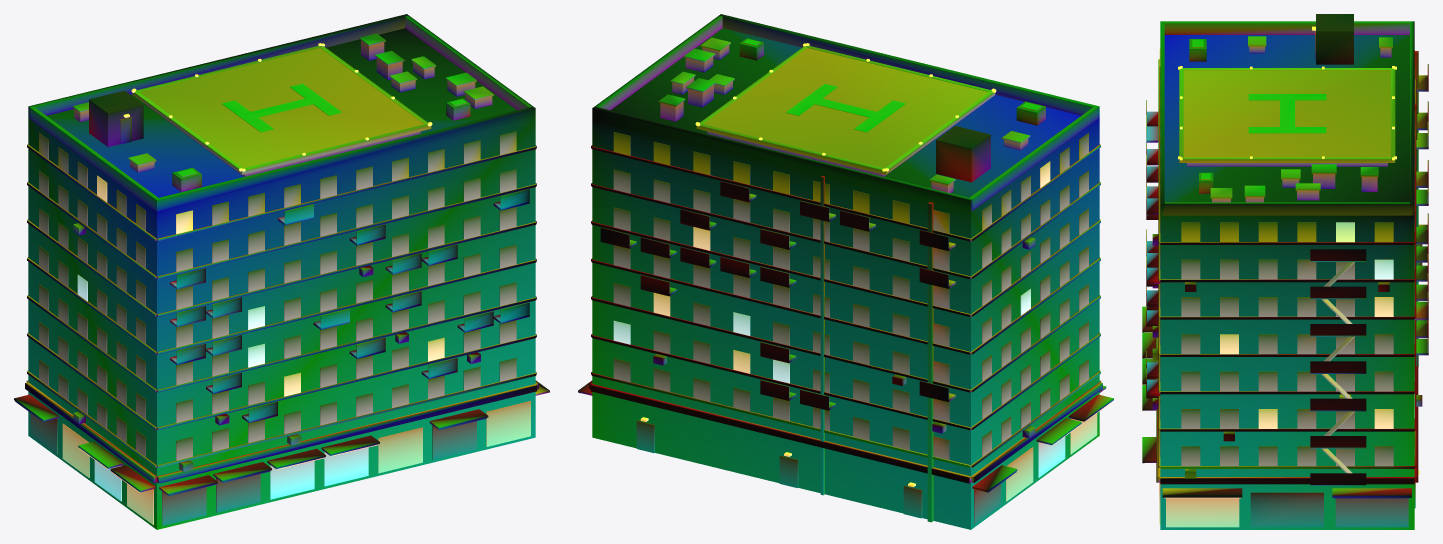
File: Block_Housing_V4.fbx
The picture shows the model from 3 angles, left to right: view 1: azimuth 30°, elevation 25°; view 2: azimuth 150°, elevation 25°; view 3: azimuth 270°, elevation 25°; orthographic projection.
Parts seen in each view (by area): view 1: Block_Housing_V4_LOD0; view 2: Block_Housing_V4_LOD0; view 3: Block_Housing_V4_LOD0.
Boxes of the visible parts, <box> form: Block_Housing_V4_LOD0: <box>14,14,549,529</box>; Block_Housing_V4_LOD0: <box>578,14,1113,529</box>; Block_Housing_V4_LOD0: <box>1142,14,1428,529</box>.
Size of what is drawn, in the model's own units: 37.1 by 30.18 by 22.5.
